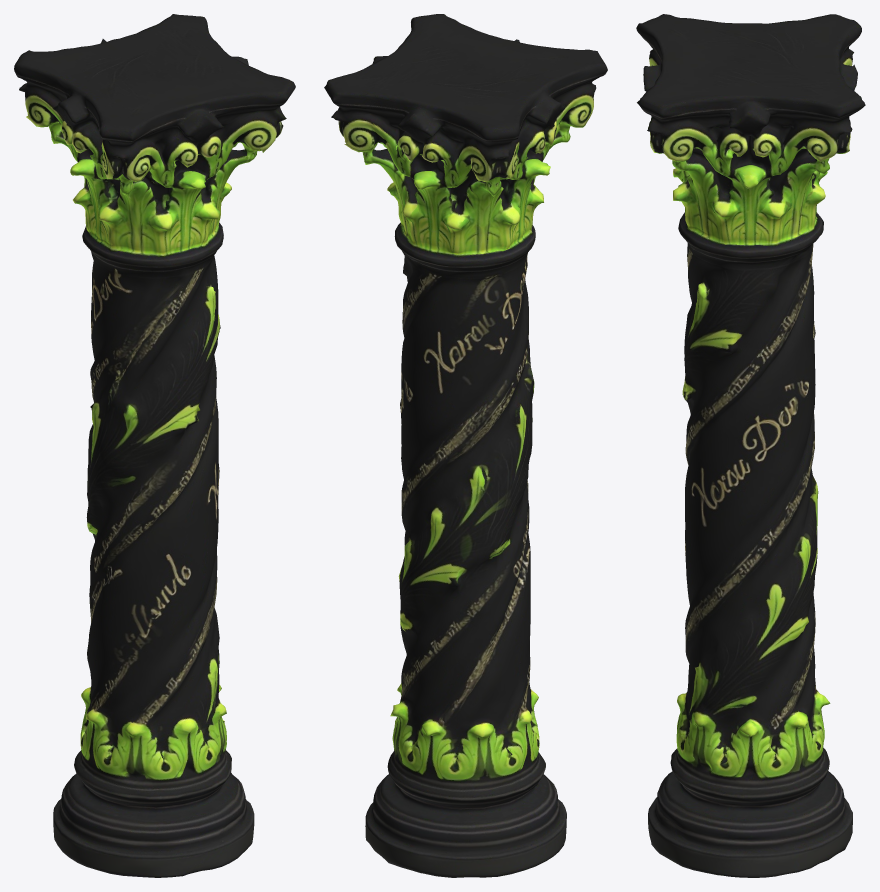
File: coluna-site.glb
3 views of the same model, side by side, from view 1: azimuth 30°, elevation 25°; view 2: azimuth 150°, elevation 25°; view 3: azimuth 270°, elevation 25° (orthographic).
Parts seen in each view (by area): view 1: tripo_node_3546a90b-9a3a-4422-a35e-bbb740d80a38; view 2: tripo_node_3546a90b-9a3a-4422-a35e-bbb740d80a38; view 3: tripo_node_3546a90b-9a3a-4422-a35e-bbb740d80a38.
Part boxes in pixels (left/top/right/bottom): tripo_node_3546a90b-9a3a-4422-a35e-bbb740d80a38: left=14, top=14, right=295, bottom=877; tripo_node_3546a90b-9a3a-4422-a35e-bbb740d80a38: left=324, top=14, right=607, bottom=877; tripo_node_3546a90b-9a3a-4422-a35e-bbb740d80a38: left=636, top=14, right=865, bottom=877.
Size of the model in its own units: 0.2672 by 0.9999 by 0.2678.
Materials: 1 (1 with a texture image).
